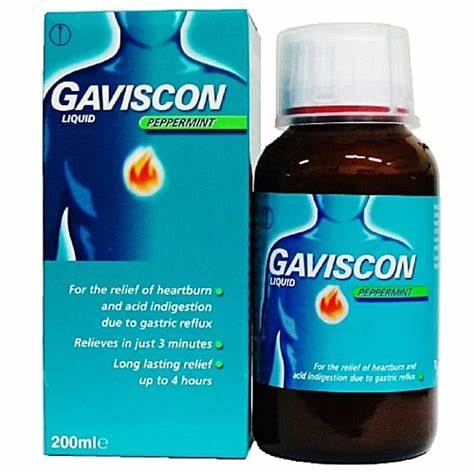Medicine: (36, 2, 258, 465), (255, 19, 448, 466)
